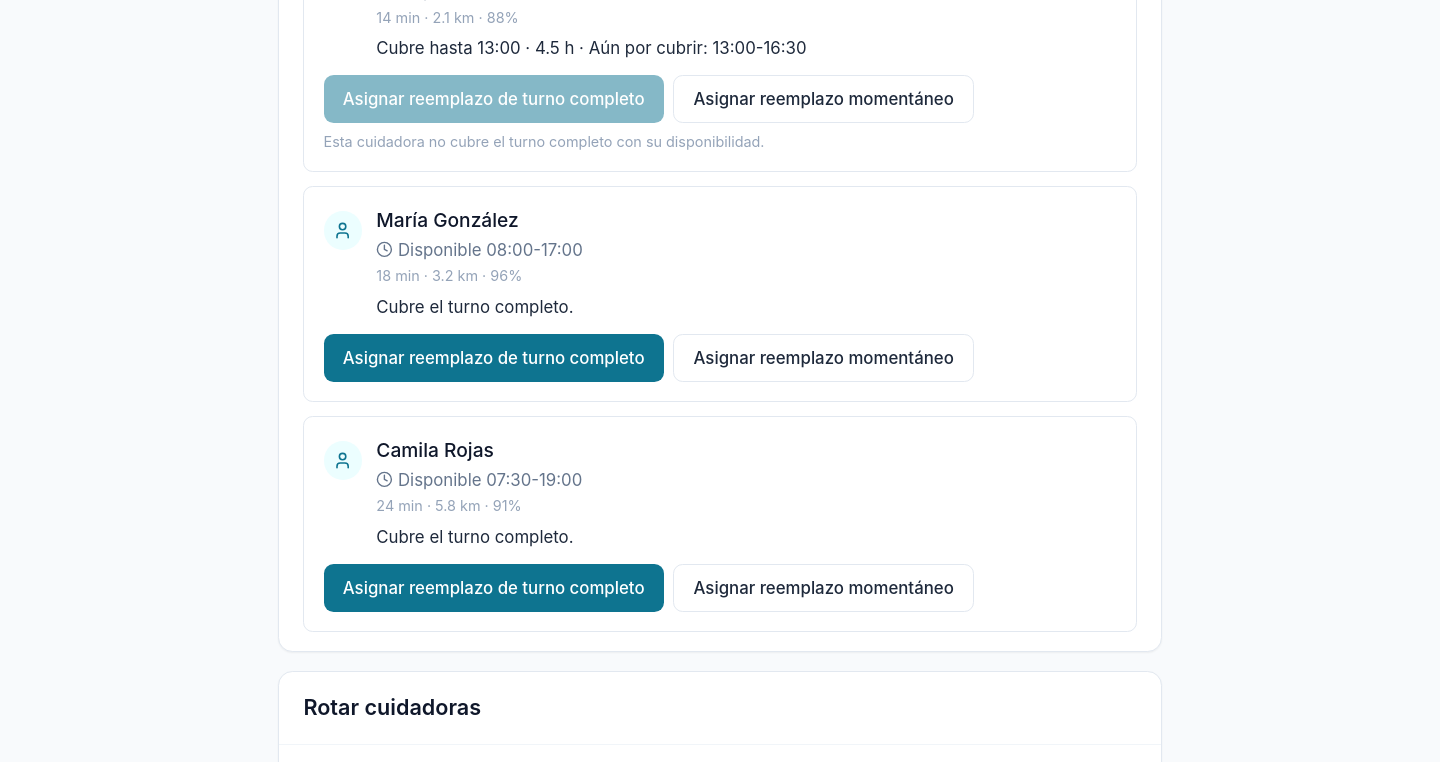
OperationsReplacement › lists candidates and assigns a full-shift replacement
The image size is (1440, 762).
(page scrolled)
expect the text "Camila Rojas" is shown: met, box [376,438,494,462]
What coordinates should you click on to do the following:
click the button "Asignar reemplazo de turno completo" below "18 min"
I would click on:
 (494, 358)
Its box is [324,334,664,382].
(page scrolled)
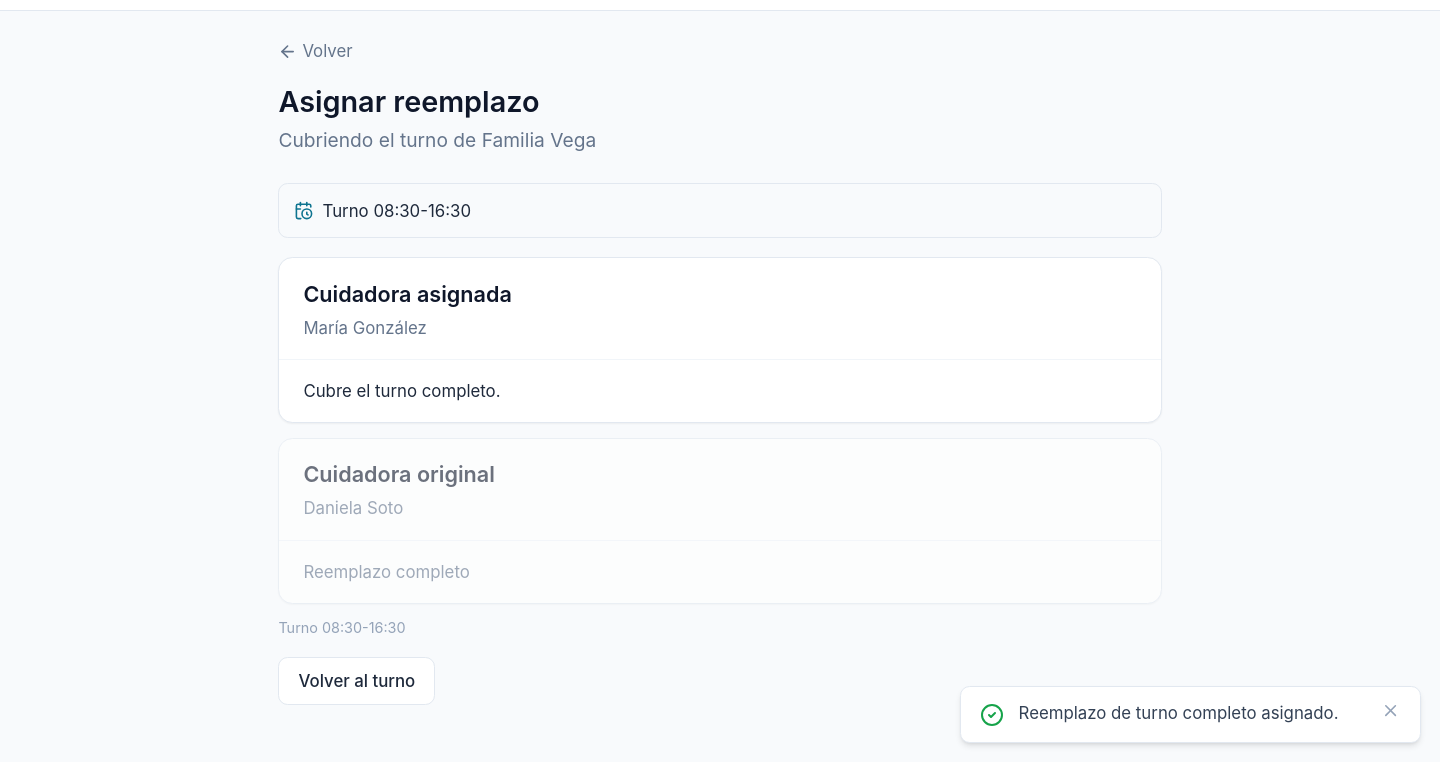
expect the heading "Cuidadora asignada" is shown: met, box [303,280,512,306]
expect the text "Reemplazo completo" is shown: met, box [303,562,470,582]
